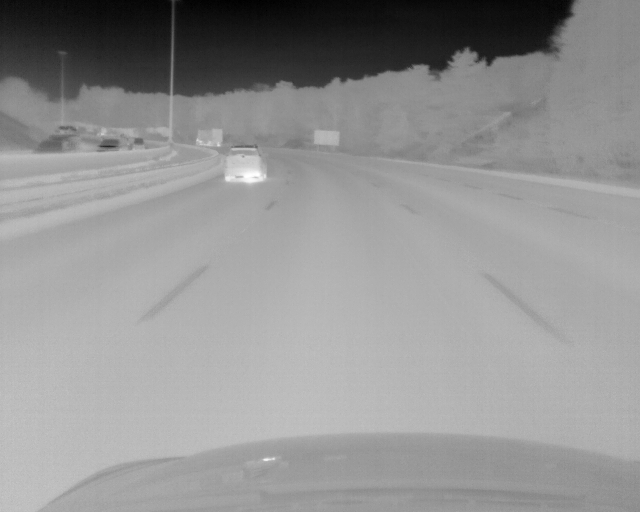car: (224, 144, 266, 182), (32, 139, 75, 153), (98, 137, 127, 152)
